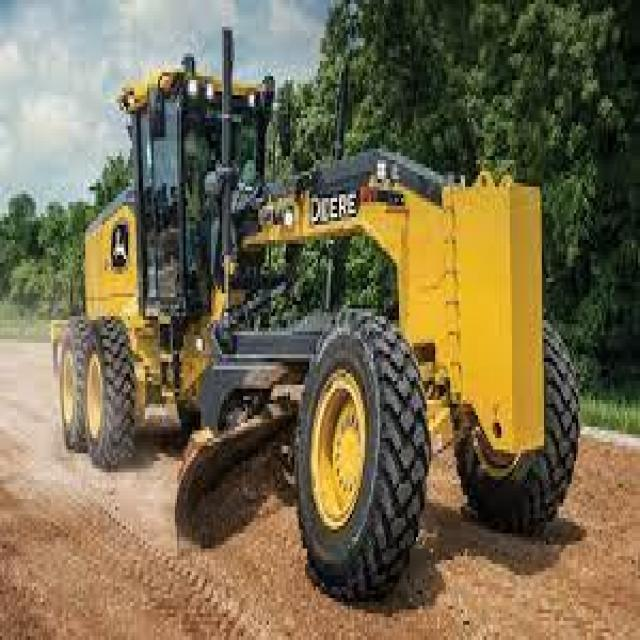Grader: (37, 38, 580, 598)
